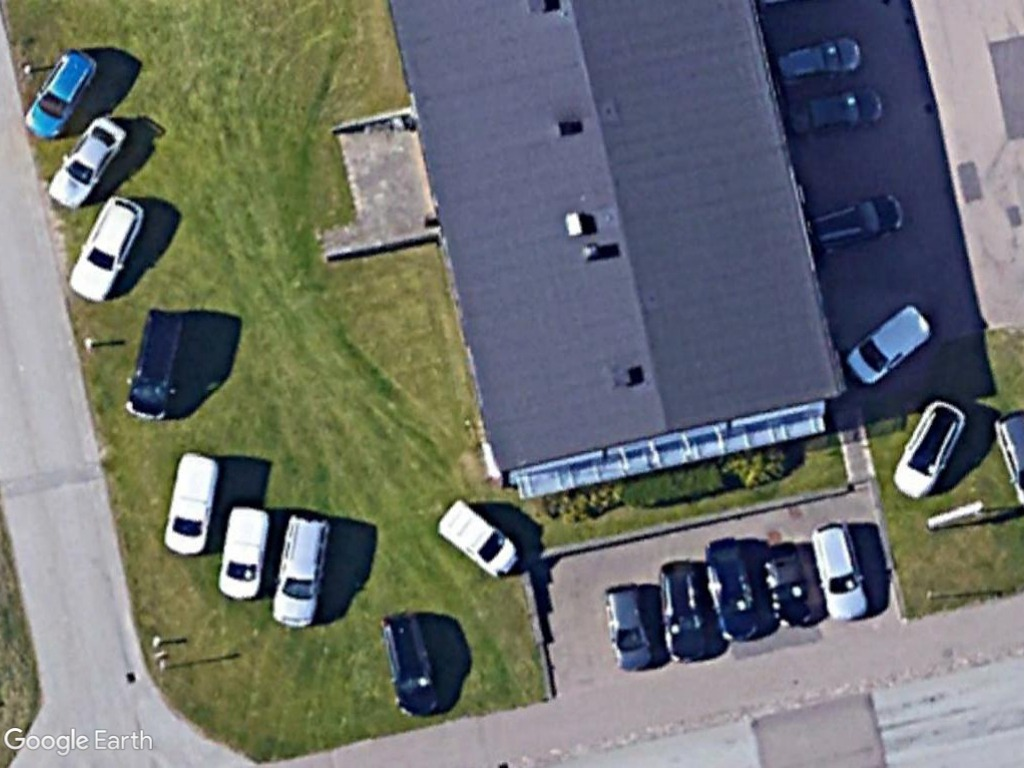car: (62, 188, 147, 307), (45, 110, 129, 212), (19, 42, 102, 140), (809, 515, 874, 627), (599, 578, 659, 674)
van: (122, 302, 193, 424), (269, 510, 334, 635), (840, 302, 931, 388), (158, 447, 224, 561), (435, 495, 521, 580), (212, 500, 274, 605)
